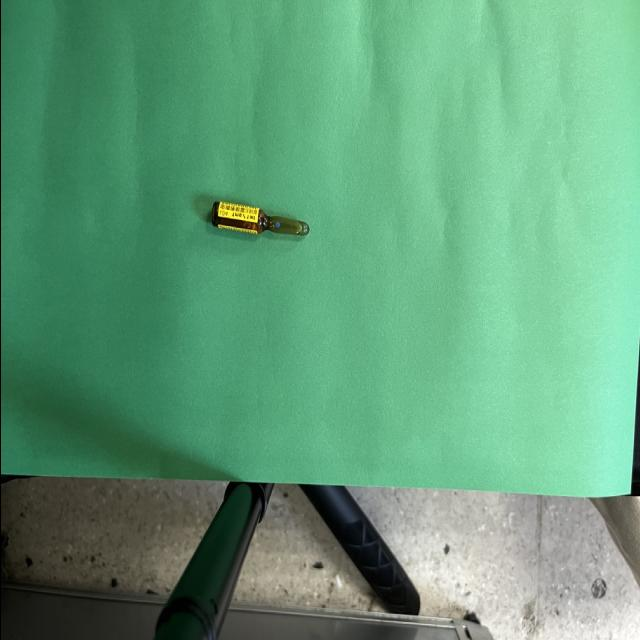Ampoules: (212, 202, 308, 237)
